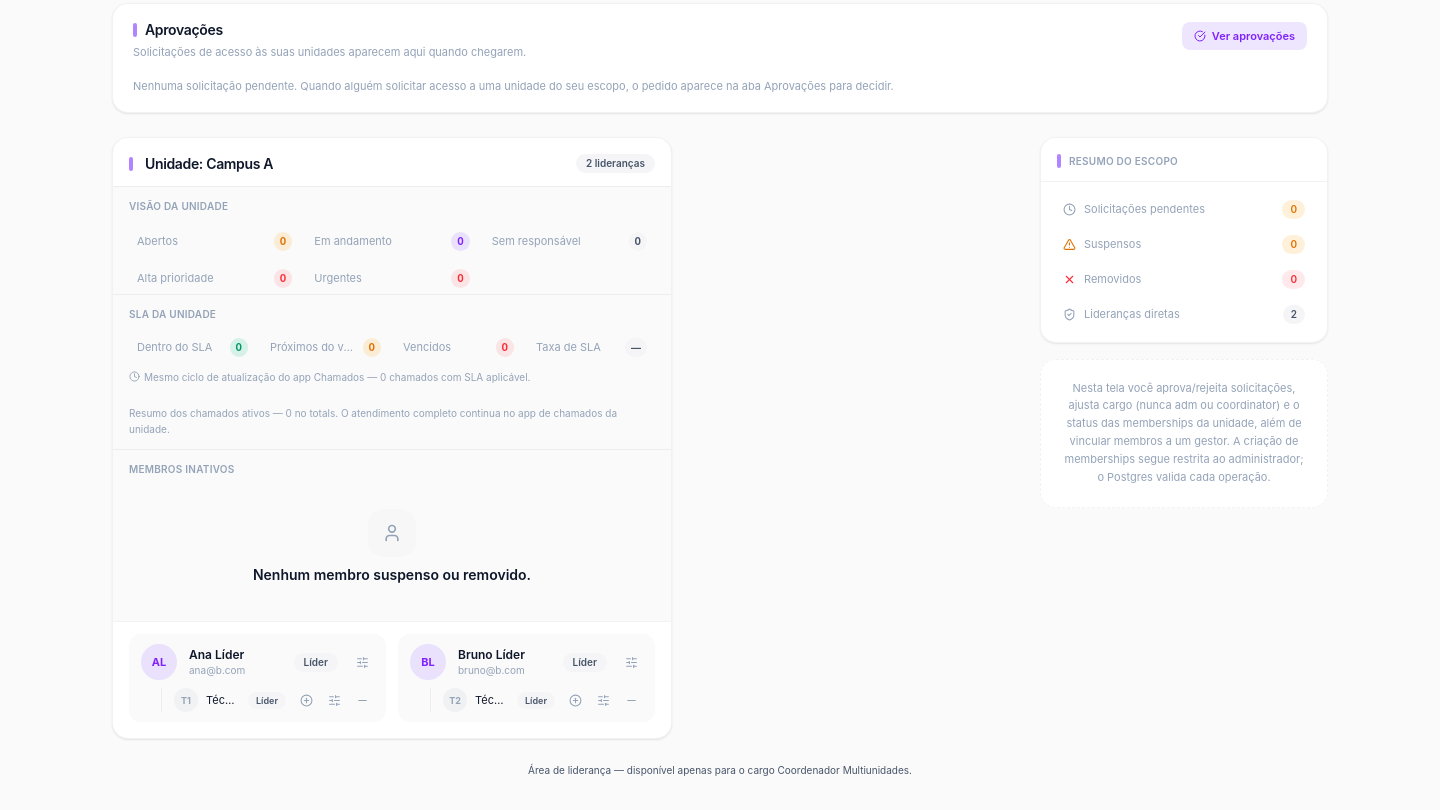
CoordinatorHome (Área do Coordenador — gestão por RPC escopada) › responsivo (Fase 1) — layout por faixa via camada src/responsive › sheet em desktop/wide renderiza como Dialog (Radix) com o mesmo conteúdo
The width and height of the screenshot is (1440, 810).
(page scrolled)
Step 1. Click the button named "Vincular Técnico 1 a gestor" → (306, 700), box [294,688,318,712]
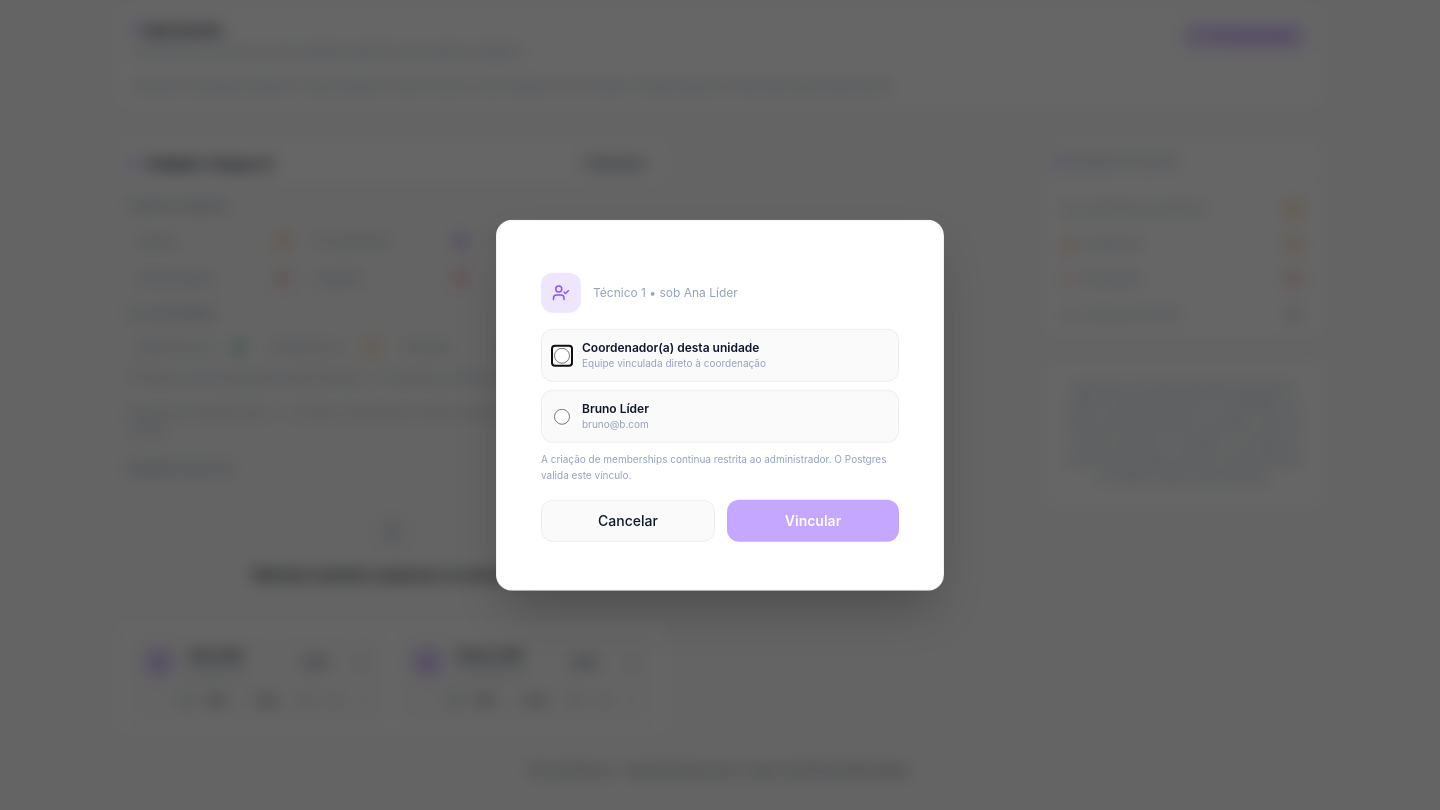
Result: the number of radio buttons is 2 at [554,347,570,363]; [554,408,570,424]
Result: the text "Bruno Líder" is shown once at [582,401,649,416]
